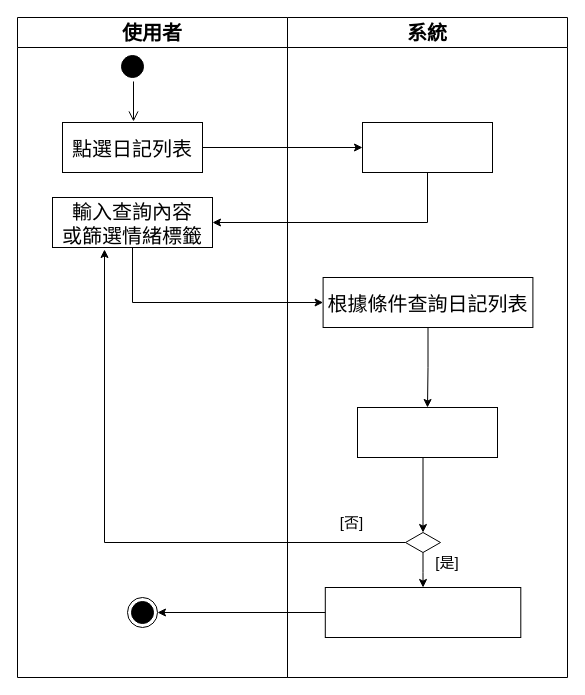
Image size: 585x695. Some labels were removed from this diagram. The shapes that lost their labels are listed below. From the top down, each one's centre as x and y in pixels, then its label:
At pixel 427 147: "顯示查詢表單".
At pixel 427 432: "是否符合".
At pixel 422 612: "顯示日記日期、內容 與情緒分析結果".
